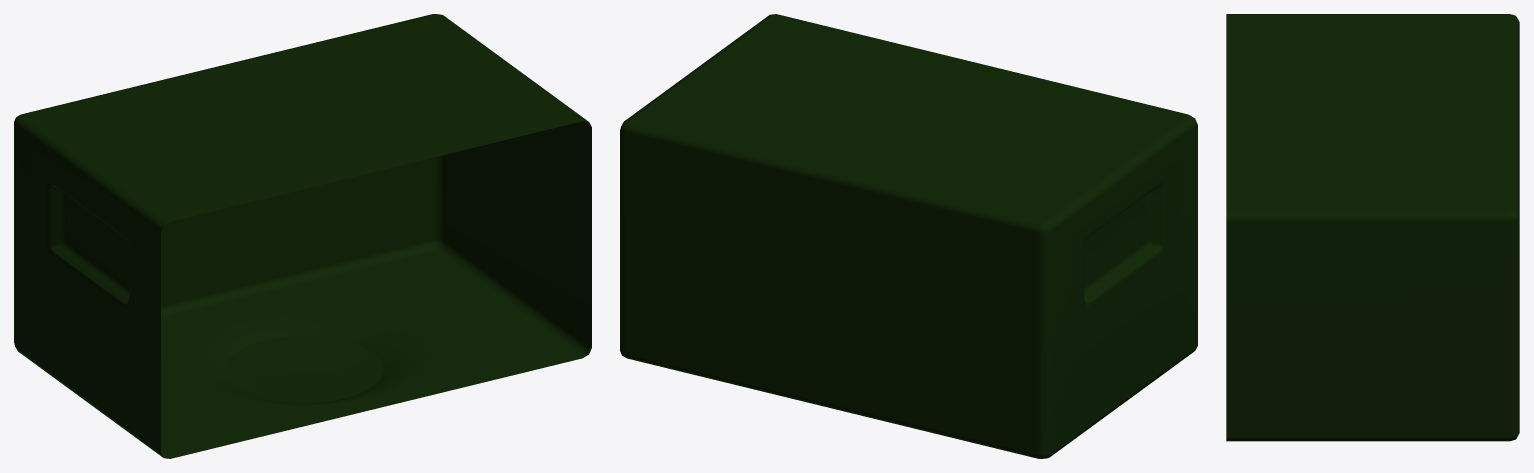
Rendered from Microwave_1_bodymesh_0_2.obj.
3 views of the same model, side by side, from view 1: azimuth 30°, elevation 25°; view 2: azimuth 150°, elevation 25°; view 3: azimuth 270°, elevation 25° (orthographic). The views are drawn at different scales.
Bounding box in the file's own units: 0.4238 × 0.3073 × 0.2577.
